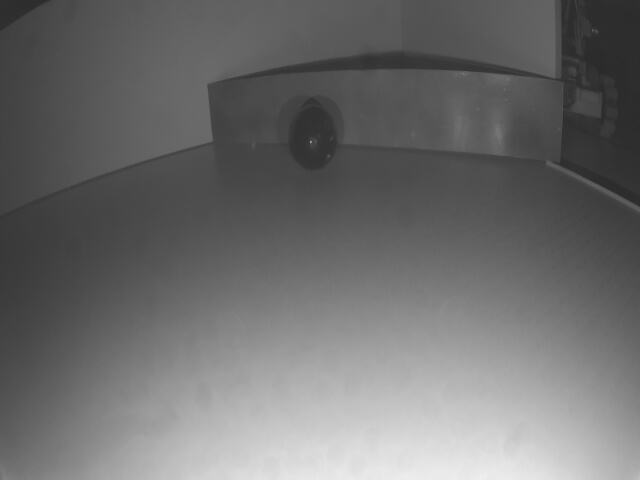Dead: (287, 105, 340, 170)
Green: (204, 75, 562, 163)
